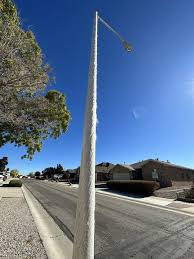light_pole: (63, 0, 132, 259)
